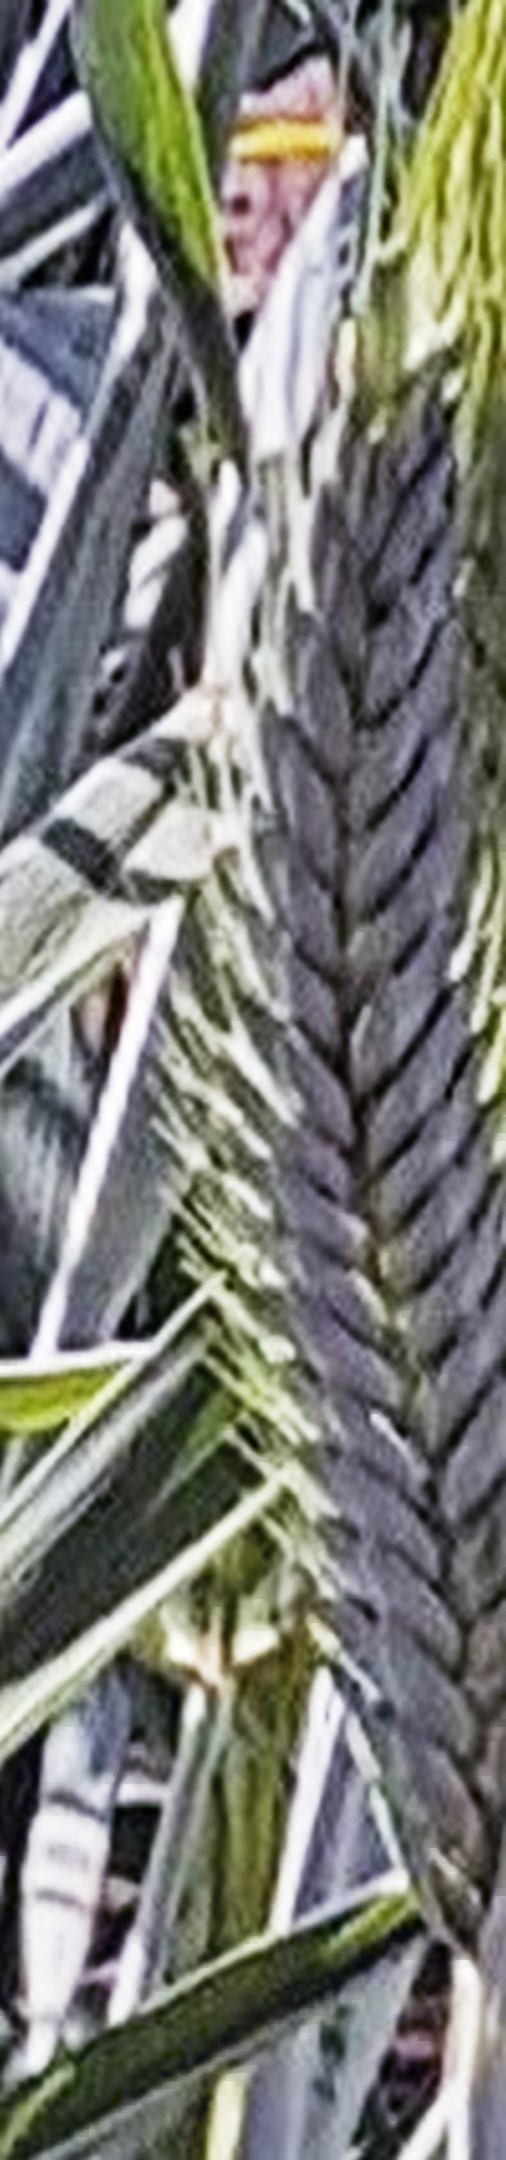Healthy Wheat: (216, 377, 506, 1873)
